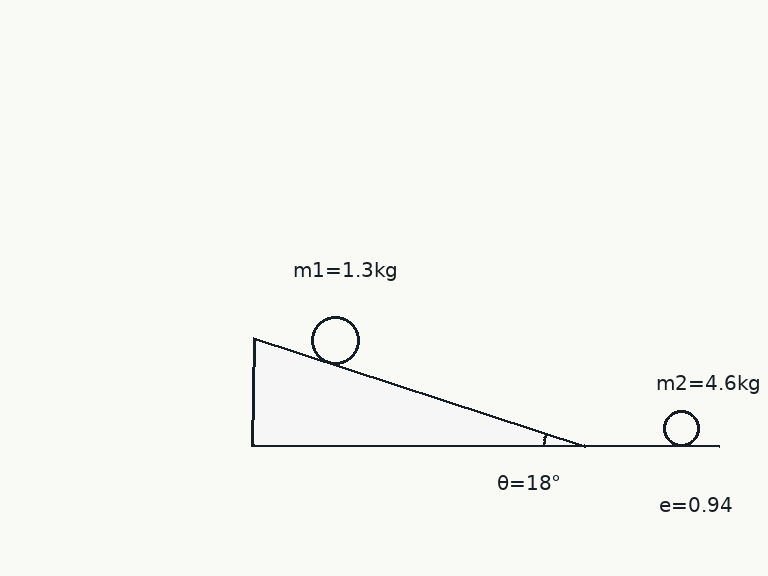ball: (309, 314, 361, 366), (661, 408, 701, 448)
ramp: (251, 336, 586, 448)
